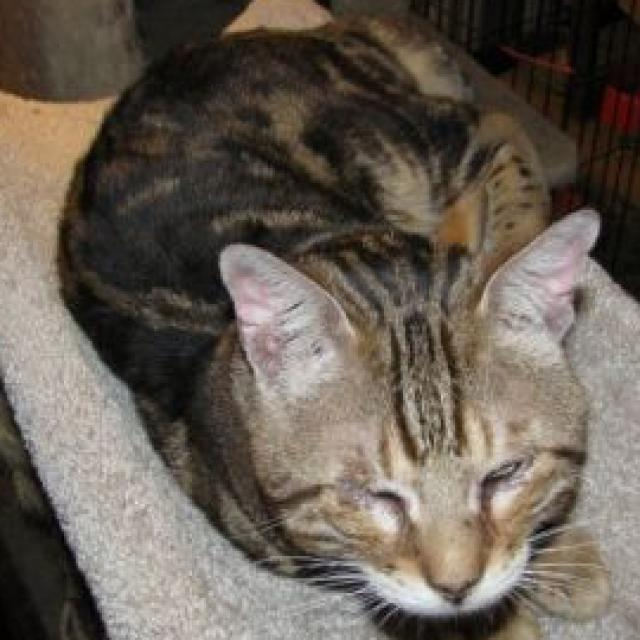Bengal: (54, 5, 624, 640)
